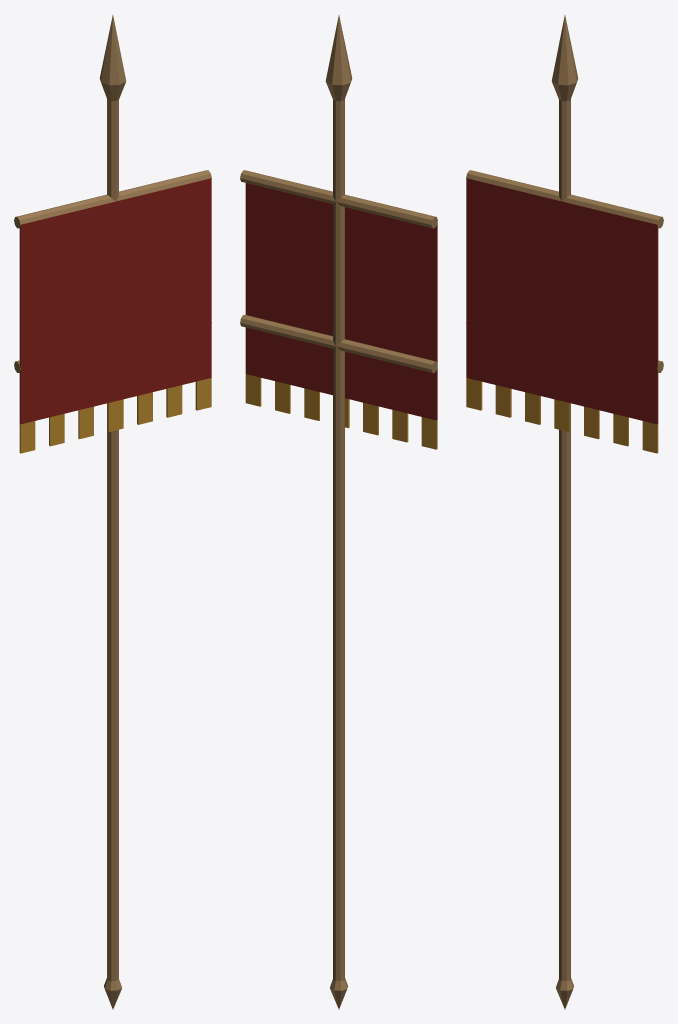
Rendered from Banner.fbx.
3 views of the same model, side by side, from view 1: azimuth 30°, elevation 25°; view 2: azimuth 150°, elevation 25°; view 3: azimuth 330°, elevation 25° (orthographic).
Parts seen in each view (by area): view 1: Banner; view 2: Banner; view 3: Banner.
Part boxes in pixels (x1,y1,x2,y2): Banner: (14,15,211,1009); Banner: (240,15,437,1009); Banner: (466,15,663,1009).
Size of the model in its own units: 105 by 520 by 13.05.
